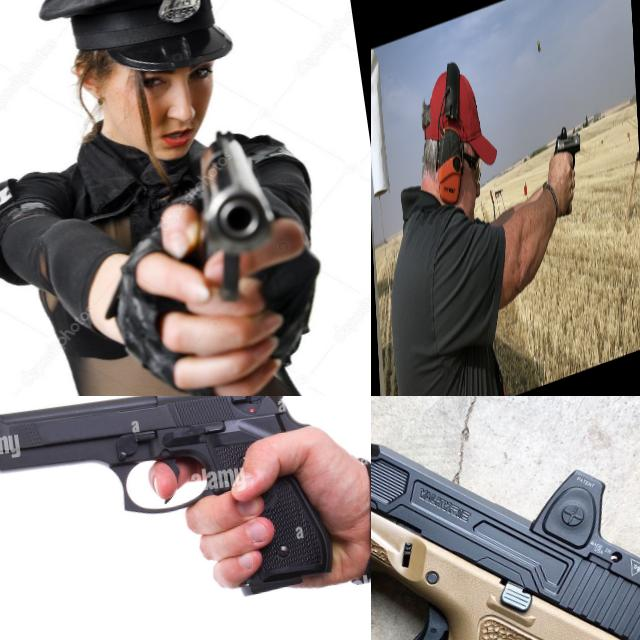handgun: (0, 396, 343, 640), (371, 396, 640, 640), (176, 118, 294, 318), (550, 116, 582, 183)
